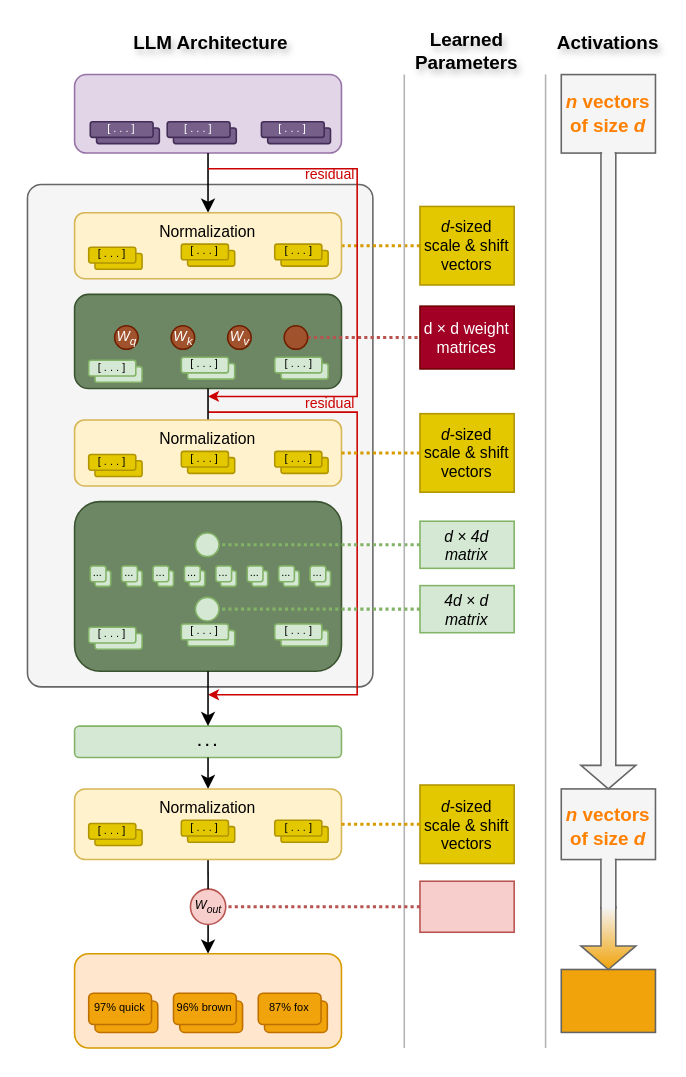
This 686x1077 diagram has some shape labels left out. The box of each missing label's shape, as (x1, y1, x2, y2) in pixels:
d × v matrix: (418, 880, 514, 932)
Feedforward Network: (73, 500, 341, 671)
Input Embeddings: (73, 73, 341, 153)
n vectors of size v: (560, 968, 655, 1032)
Output (Logits): (73, 952, 341, 1048)
Self-Attention: (73, 293, 341, 389)
Transformer Block: (26, 183, 373, 687)
W o: (283, 324, 308, 349)
